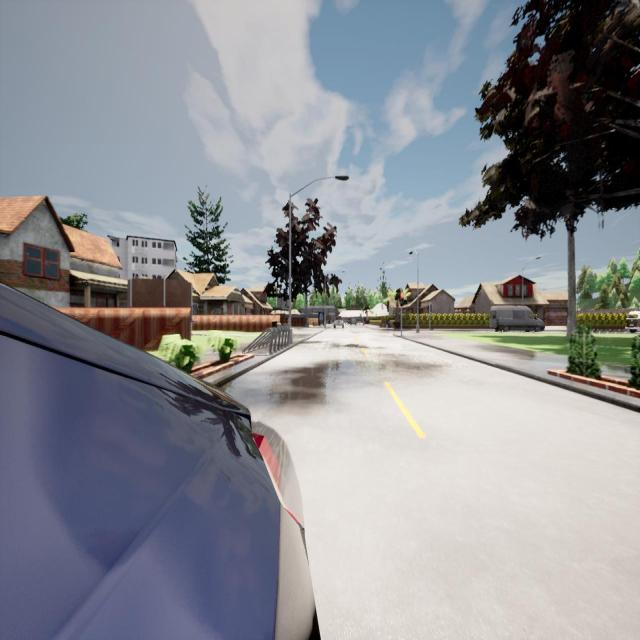Vehicle: (0, 285, 317, 640), (489, 306, 546, 332), (625, 311, 640, 333), (333, 316, 345, 329), (350, 317, 357, 326)
traffic_light: (400, 294, 404, 306)
